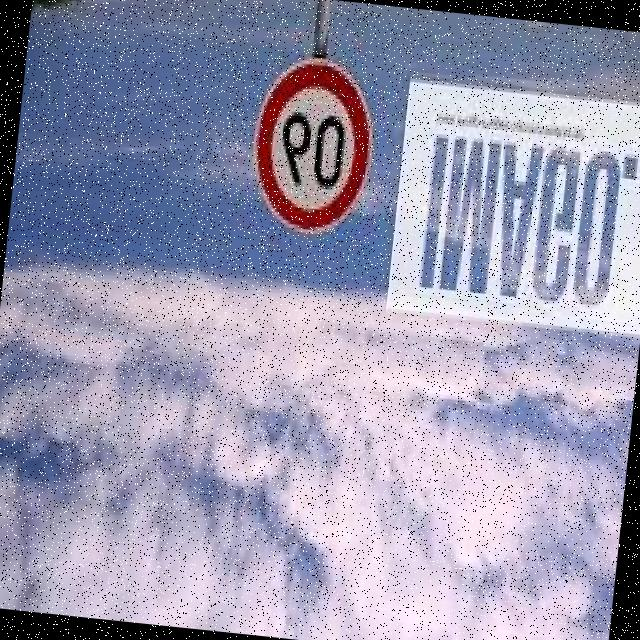speed_limit_60: (237, 46, 391, 250)
